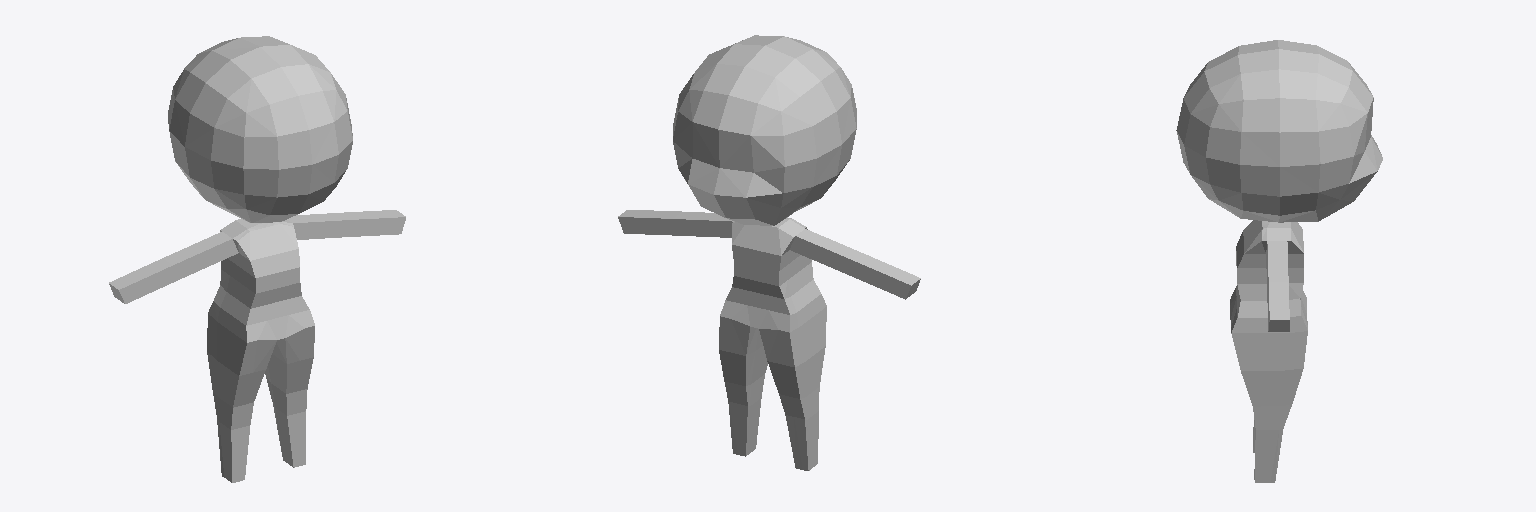
The model's file is meru.obj.
3 views of the same model, side by side, from view 1: azimuth 30°, elevation 25°; view 2: azimuth 150°, elevation 25°; view 3: azimuth 270°, elevation 25° (orthographic).
Parts seen in each view (by area): view 1: 頭, 体; view 2: 頭, 体; view 3: 頭, 体.
Boxes of the visible parts, x1,y1,x2,y2 form: 頭: [168, 36, 352, 222]; 体: [109, 210, 405, 482]; 頭: [673, 35, 856, 225]; 体: [618, 210, 920, 470]; 頭: [1176, 40, 1382, 222]; 体: [1230, 220, 1307, 482].
Bounding box in the file's own units: 1.4 × 1.93 × 0.8651.